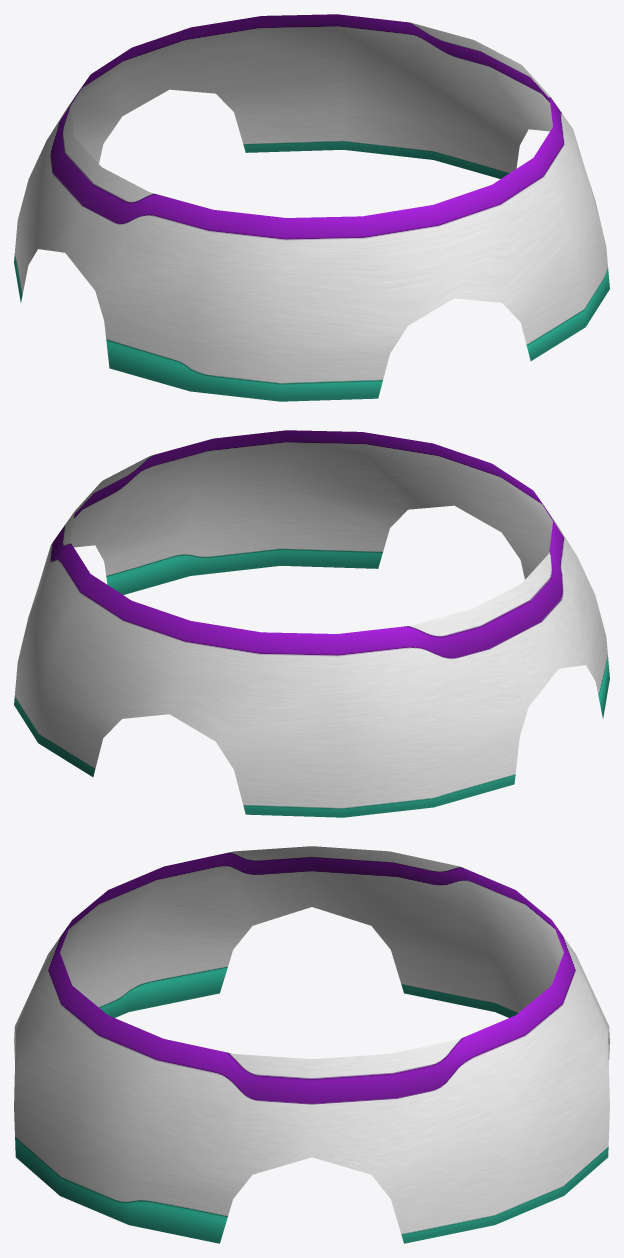
The model's file is Base4Doors.fbx.
3 views of the same model, one above another, from view 1: azimuth 30°, elevation 25°; view 2: azimuth 150°, elevation 25°; view 3: azimuth 270°, elevation 25° (orthographic). The views are drawn at different scales.
Parts seen in each view (by area): view 1: pSphere7; view 2: pSphere7; view 3: pSphere7.
Boxes of the visible parts, bbox=[...] form: pSphere7: bbox=[14, 14, 609, 401]; pSphere7: bbox=[14, 430, 609, 817]; pSphere7: bbox=[14, 846, 609, 1243].
Bounding box in the file's own units: 12.65 × 3.91 × 12.72.
